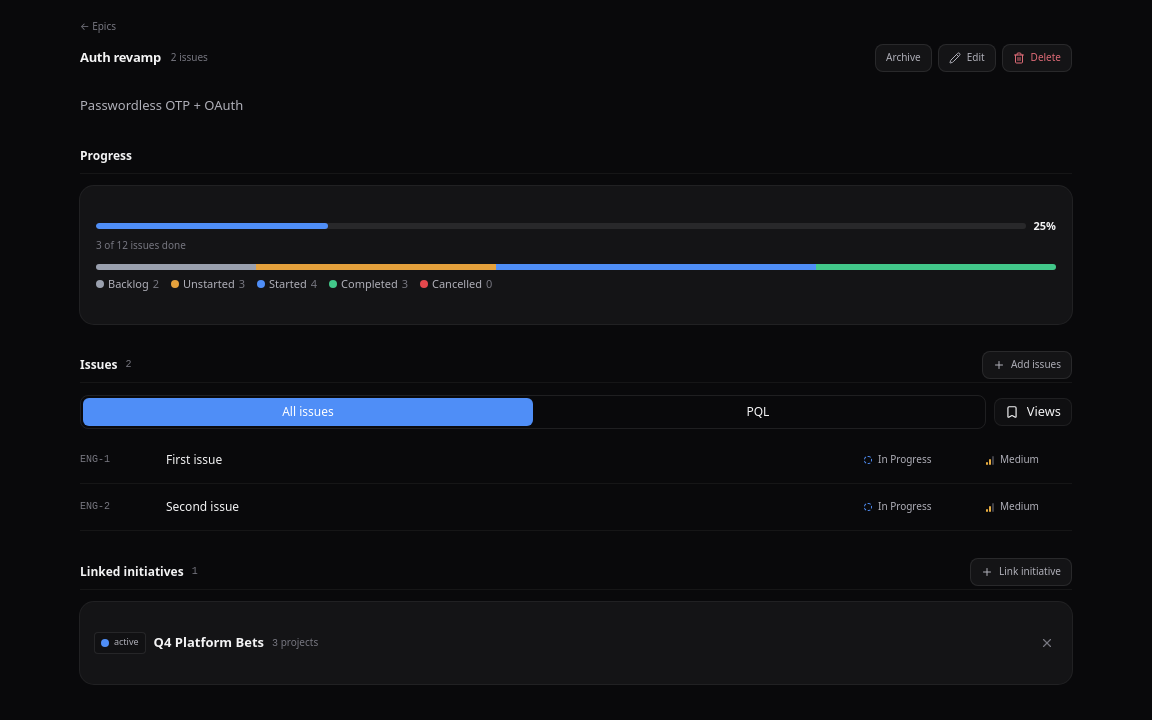
Test: epic detail saved views (C108T3) › the detail menu renders no visual views, own or shared
The width and height of the screenshot is (1152, 720).
Expected: the text "First issue" is shown, [166,451,222,468]
Click the button with aria-label "Saved views" at {"x": 1033, "y": 412}, box [994,398,1072,426]
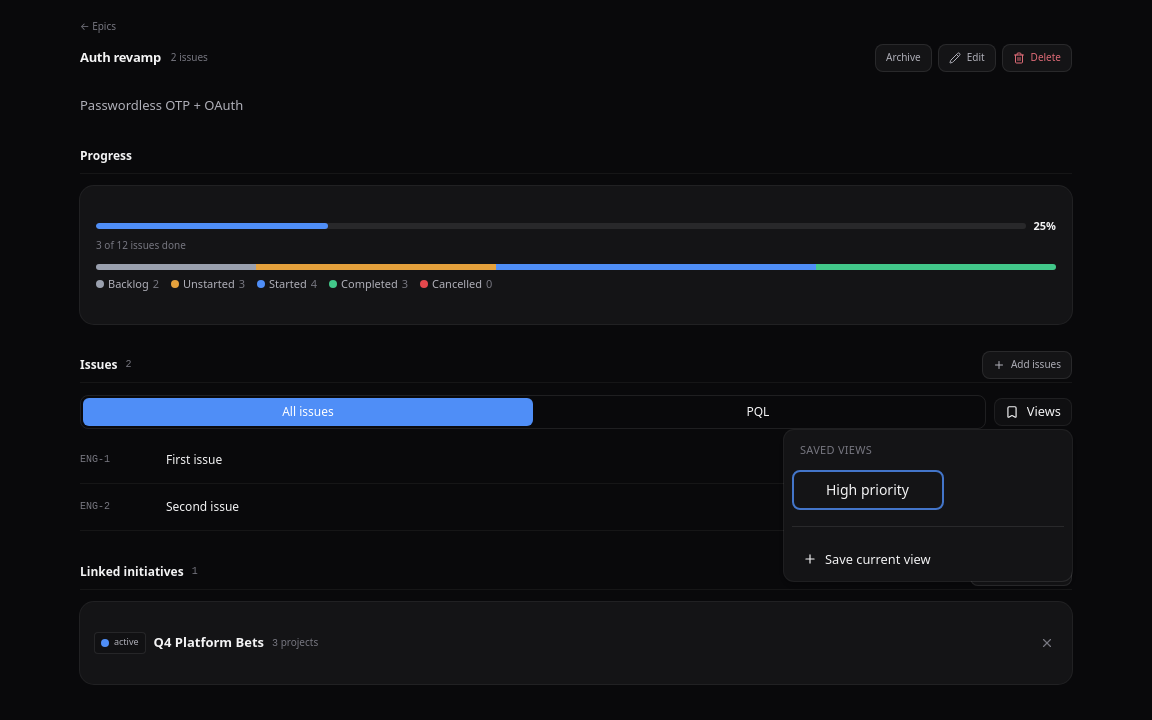
Now the button "Save current view" is shown, box [792,545,1064,573]
Now the text "High priority" is shown, box [826,480,909,500]
